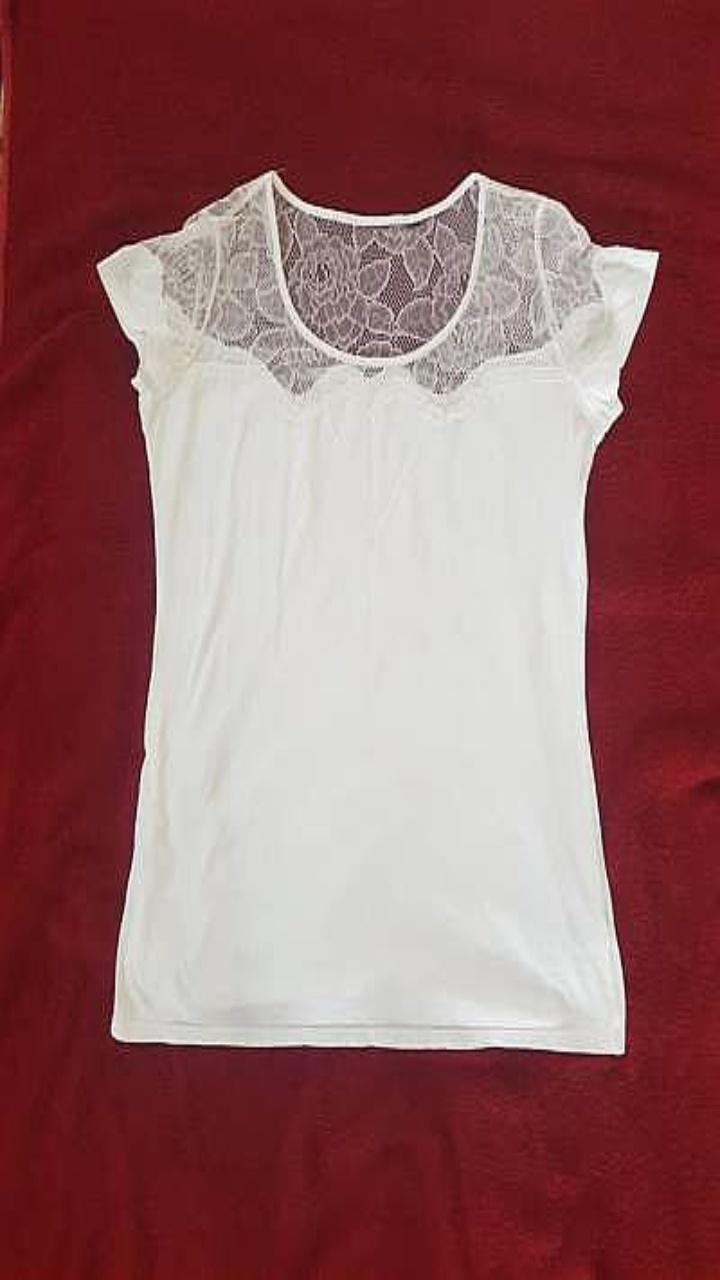T-Shirt: (96, 170, 658, 1054)
